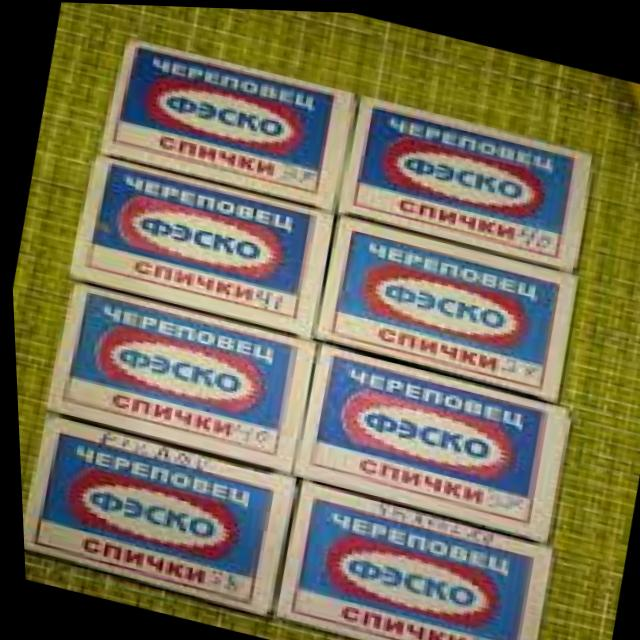match: (278, 330, 581, 544), (14, 408, 305, 619), (301, 202, 595, 408), (58, 146, 350, 345), (32, 275, 320, 475), (91, 23, 369, 220), (334, 85, 613, 276), (262, 470, 562, 640)
